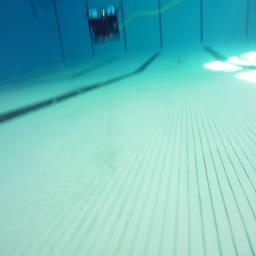front: (85, 2, 122, 46)
